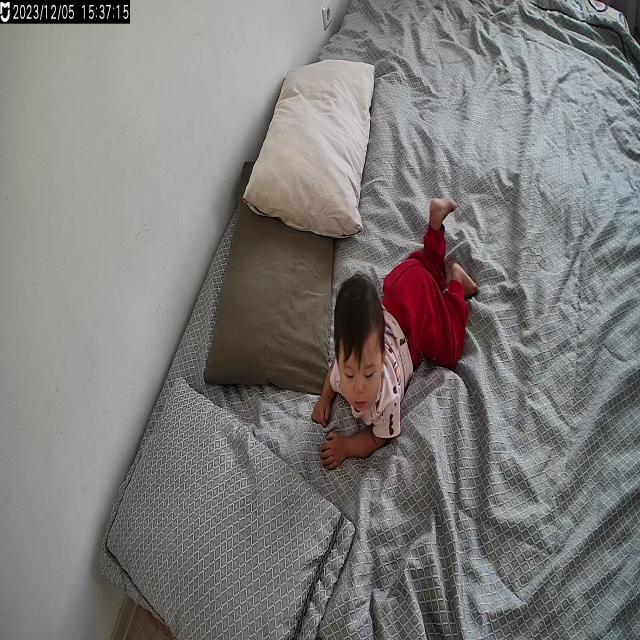baby: (311, 188, 478, 470)
